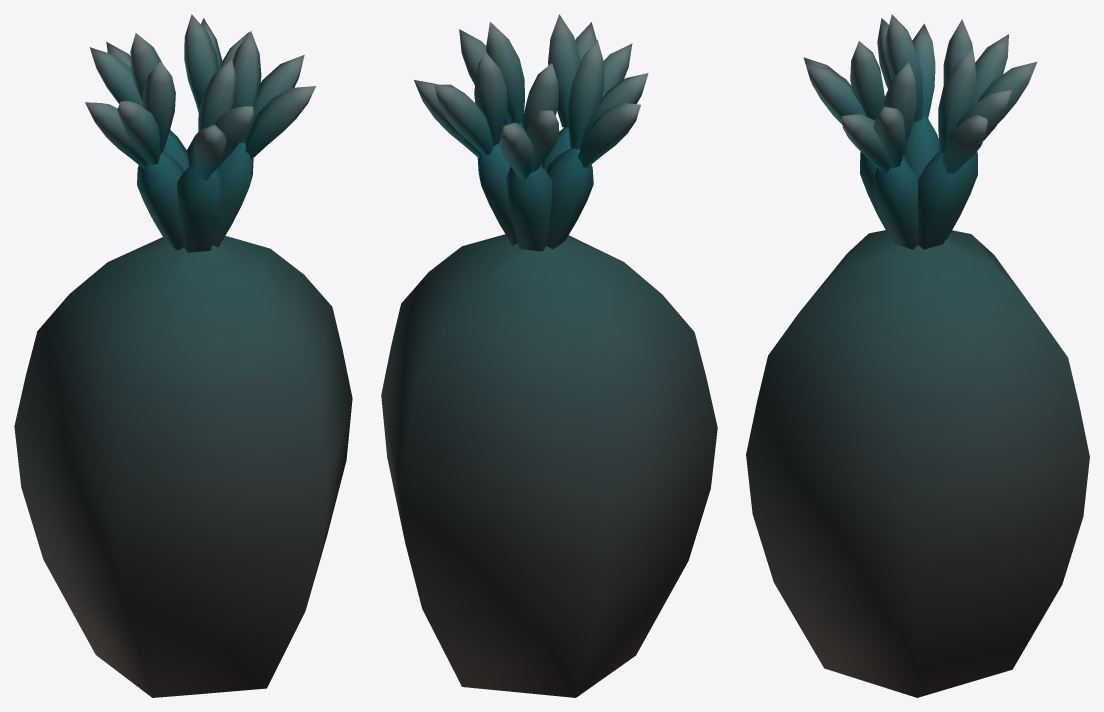
The model's file is plants-leafy-plants-leafy-bulb_v3.fbx.
3 renders of one model, left to right at view 1: azimuth 30°, elevation 25°; view 2: azimuth 150°, elevation 25°; view 3: azimuth 270°, elevation 25°, orthographic.
Visible parts, largest first — view 1: Leafy Bulb_v3; view 2: Leafy Bulb_v3; view 3: Leafy Bulb_v3.
Part boxes in pixels (x1,y1,x2,y2): Leafy Bulb_v3: (14, 14, 352, 697); Leafy Bulb_v3: (381, 14, 717, 697); Leafy Bulb_v3: (746, 14, 1089, 697).
Size of the model in its own units: 0.1823 by 0.4 by 0.1907.
